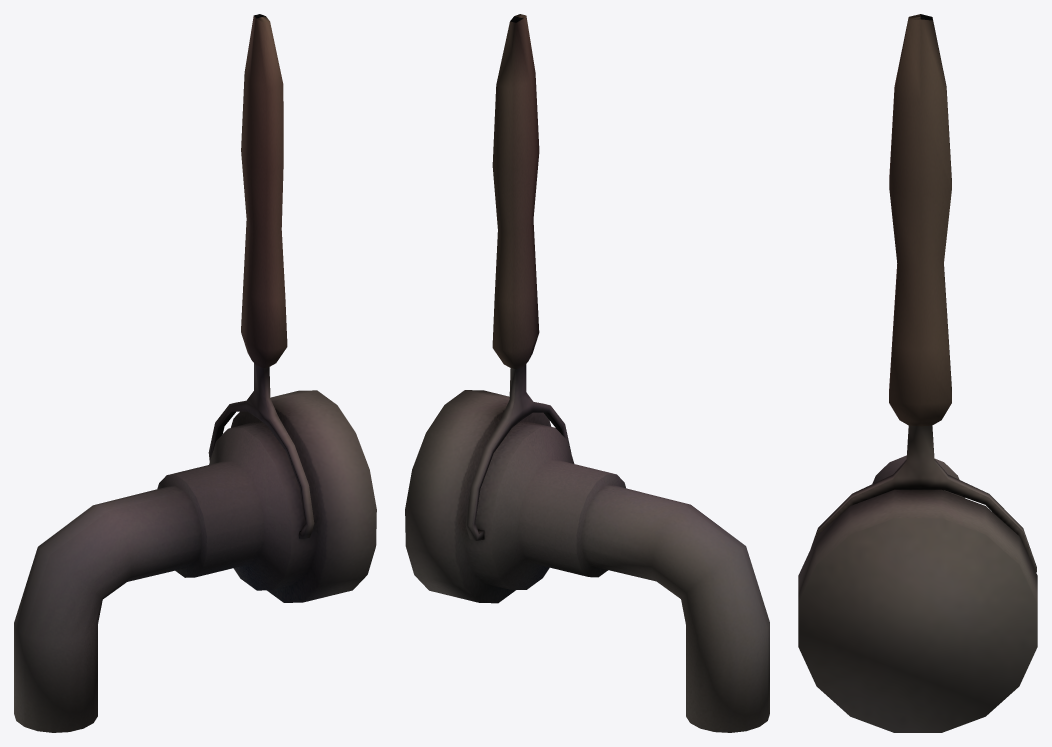
Rendered from barpull.fbx.
The picture shows the model from 3 angles, left to right: view 1: azimuth 30°, elevation 25°; view 2: azimuth 150°, elevation 25°; view 3: azimuth 270°, elevation 25°; orthographic projection. The views are drawn at different scales.
Parts seen in each view (by area): view 1: Cube.013; view 2: Cube.013; view 3: Cube.013.
Boxes of the visible parts, <box> form: Cube.013: <box>14,14,376,732</box>; Cube.013: <box>405,14,769,732</box>; Cube.013: <box>798,14,1037,732</box>.
Size of the model in its own units: 78.74 by 158 by 45.2.
